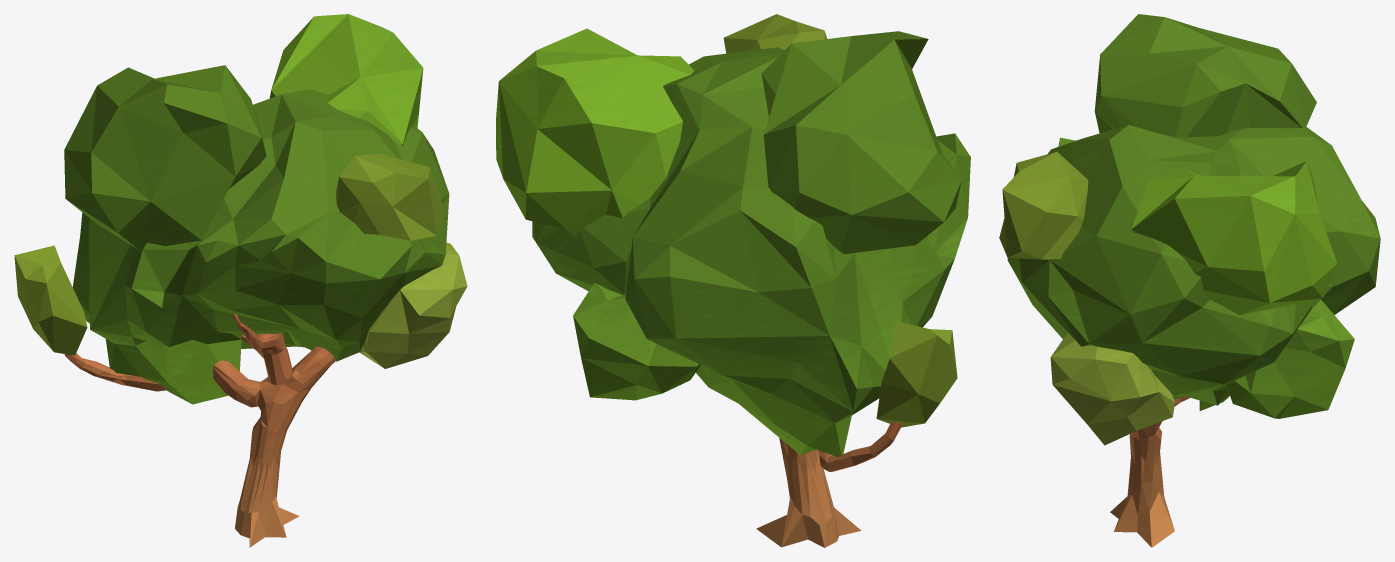
Rendered from ArbolFrondoso.fbx.
3 renders of one model, left to right at view 1: azimuth 30°, elevation 25°; view 2: azimuth 150°, elevation 25°; view 3: azimuth 270°, elevation 25°, orthographic. The views are drawn at different scales.
Visible parts, largest first — view 1: ArbolFrondoso; view 2: ArbolFrondoso; view 3: ArbolFrondoso.
Boxes of the visible parts, x1=… form: ArbolFrondoso: x1=14, y1=14, x2=467, y2=547; ArbolFrondoso: x1=496, y1=14, x2=970, y2=547; ArbolFrondoso: x1=999, y1=14, x2=1380, y2=547.
Size of the model in its own units: 522 by 432 by 585.
Materials: 1 (1 with a texture image).
